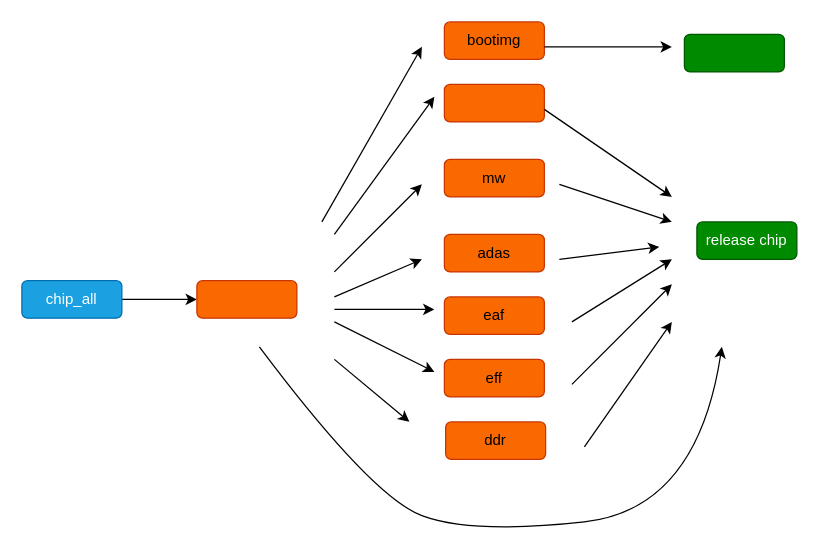
Some shapes in this 819 by 549 pixel diagram are drawn without their labels. Here are the shapes that lost their labels. From the top down, the centre of each, then its label:
At point 733,52: "release boot".
At point 493,102: "gfx".
At point 246,298: "mm".
